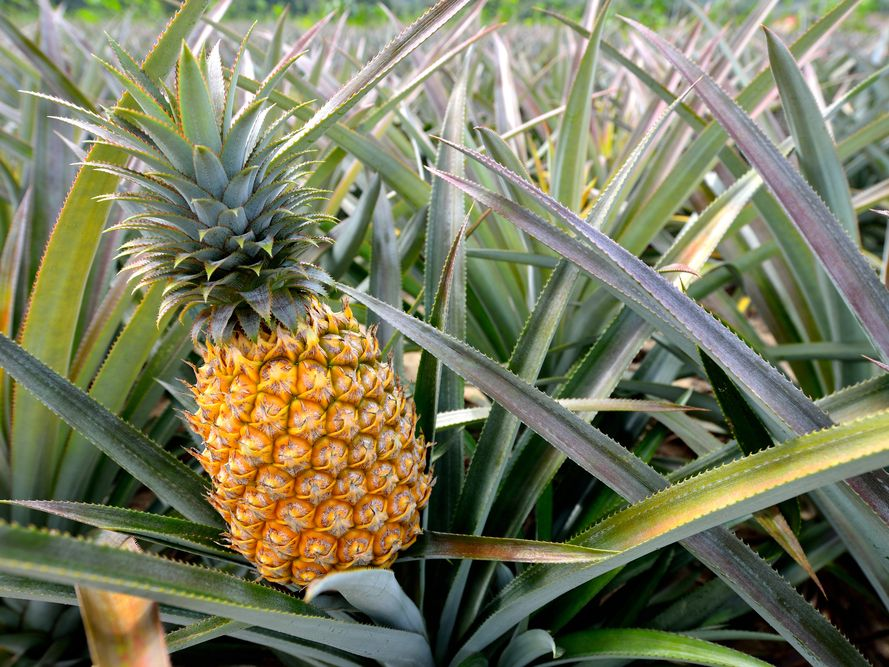pineapple: (102, 107, 448, 576)
